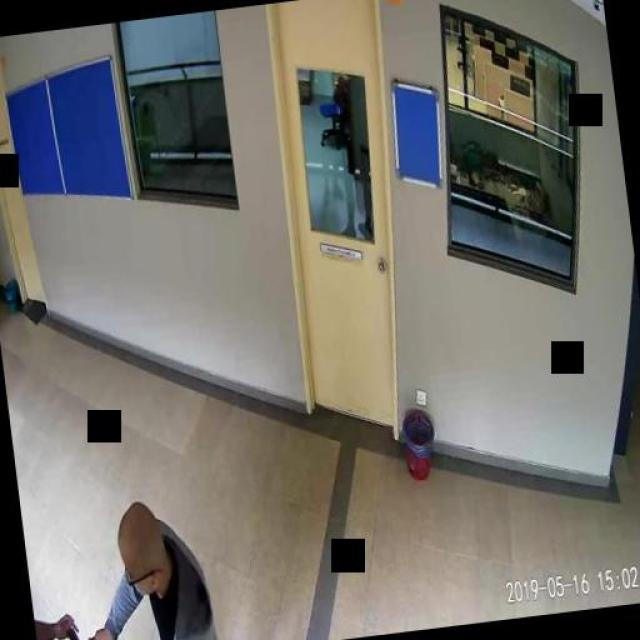gun: (64, 620, 102, 640)
